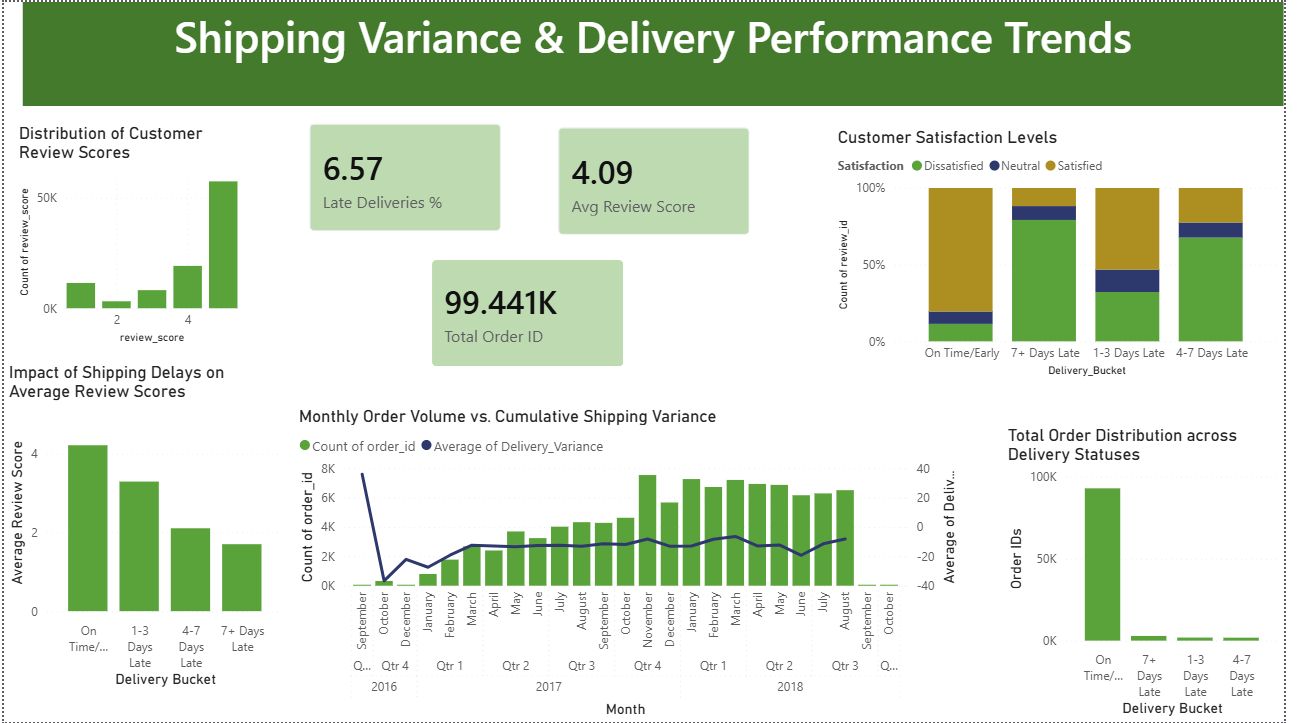

Layout of this report page (visuals, bound fields, positions):
{"tool":"powerbi","page":{"name":"Variance","canvas":[1280,720],"ordinal":1},"visuals":[{"type":"clusteredColumnChart","title":"Distribution of Customer Review Scores","fields":{"Category":["reviews_cleaned.review_score"],"Y":["CountNonNull(reviews_cleaned.review_score)"]},"box":[13.3,74.8,228,225.6],"z":1000},{"type":"clusteredColumnChart","title":"Impact of Shipping Delays on Average Review Scores","fields":{"Category":["orders_cleaned.Delivery_Bucket"],"Y":["Avg(reviews_cleaned.review_score)"]},"box":[0,359.5,284.7,349.9],"z":2000},{"type":"cardVisual","title":"Late Deliveries","fields":{"Data":["orders_cleaned.Late Deliveries %"]},"box":[294.4,92.9,225.6,142.4],"z":3000},{"type":"clusteredColumnChart","title":"Total Order Distribution across Delivery Statuses","fields":{"Category":["orders_cleaned.Delivery_Bucket"],"Y":["CountNonNull(orders_cleaned.order_id)"]},"box":[973.6,403,281.1,317.3],"z":4000},{"type":"hundredPercentStackedColumnChart","title":"Customer Satisfaction Levels","fields":{"Category":["orders_cleaned.Delivery_Bucket"],"Series":["reviews_cleaned.Satisfaction"],"Y":["CountNonNull(reviews_cleaned.review_id)"]},"box":[828.8,94.1,451.2,254.6],"z":5000},{"type":"lineClusteredColumnComboChart","title":"Monthly Order Volume vs. Cumulative Shipping Variance","fields":{"Y":["CountNonNull(orders_cleaned.order_id)"],"Y2":["Avg(orders_cleaned.Delivery_Variance)"],"Category":["orders_cleaned.pur_date.Variation.Date Hierarchy.Year","orders_cleaned.pur_date.Variation.Date Hierarchy.Quarter","orders_cleaned.pur_date.Variation.Date Hierarchy.Month","orders_cleaned.pur_date.Variation.Date Hierarchy.Day"]},"box":[316.1,403,646.7,317.3],"z":6000},{"type":"cardVisual","title":"Total Orders","fields":{"Data":["Count(orders_cleaned.order_id)"]},"box":[564.6,94.1,224.4,141.2],"z":7000},{"type":"textbox","title":"Product Portfolio Optimization & Revenue Contribution","box":[0,0,696.1,54.3],"z":8000}]}

Visuals, with their boxes in screenshot pixels (x1, y1, x2, y2), scaled from the page's 1280x720 canvas onto the 1297x723 screenshot:
"Distribution of Customer Review Scores" clusteredColumnChart: bbox=(13, 75, 245, 302)
"Impact of Shipping Delays on Average Review Scores" clusteredColumnChart: bbox=(0, 361, 288, 712)
"Late Deliveries" cardVisual: bbox=(298, 93, 527, 236)
"Total Order Distribution across Delivery Statuses" clusteredColumnChart: bbox=(987, 405, 1271, 722)
"Customer Satisfaction Levels" hundredPercentStackedColumnChart: bbox=(840, 94, 1296, 350)
"Monthly Order Volume vs. Cumulative Shipping Variance" lineClusteredColumnComboChart: bbox=(320, 405, 976, 722)
"Total Orders" cardVisual: bbox=(572, 94, 799, 236)
"Product Portfolio Optimization & Revenue Contribution" textbox: bbox=(0, 0, 705, 55)
